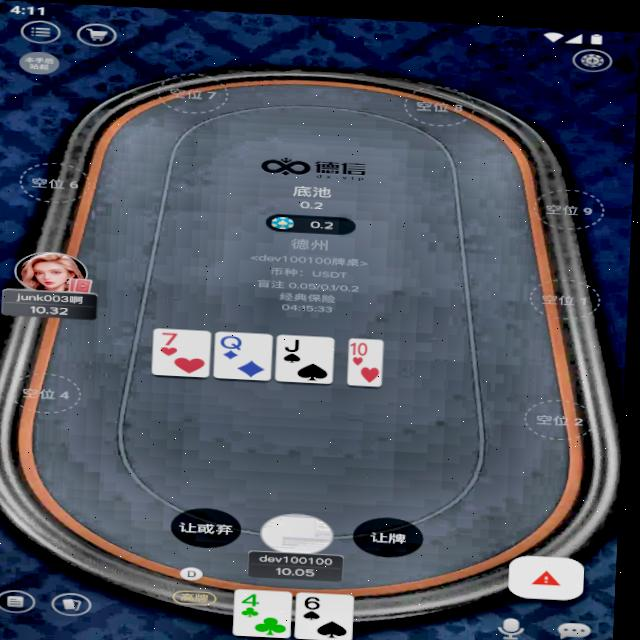10h: (353, 337, 375, 353)
4m: (245, 588, 269, 606)
6s: (305, 591, 333, 608)
7h: (161, 329, 185, 345)
Js: (285, 333, 307, 350)
Qf: (223, 331, 248, 349)
